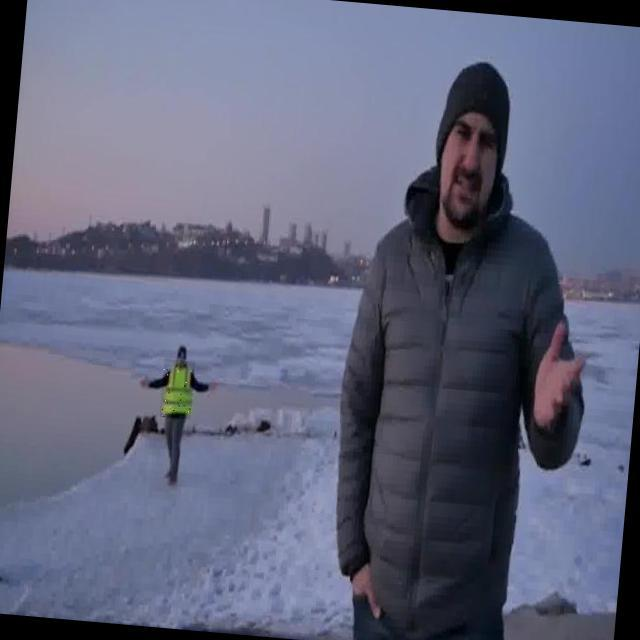Gloves: (130, 374, 151, 398), (208, 378, 220, 395)
Person: (328, 30, 616, 640), (126, 323, 226, 503)
Safety Vest: (159, 359, 195, 419)
bare-arms: (537, 308, 588, 435), (350, 552, 386, 626)
no-helmet: (433, 55, 526, 120), (169, 344, 196, 358)
no-vest: (333, 164, 603, 631)
